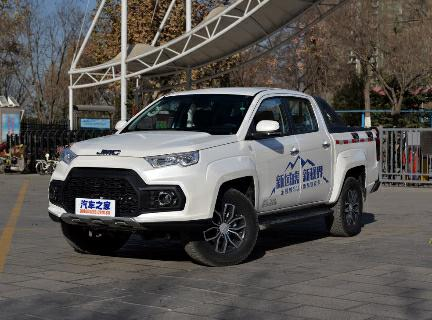江铃-域虎: (43, 87, 386, 267)
